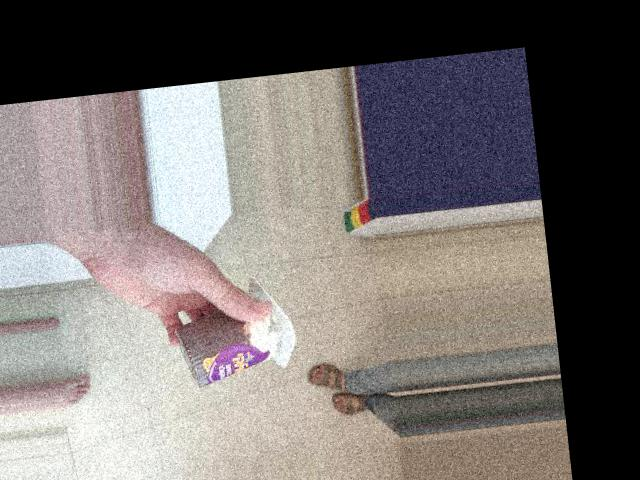milky: (175, 297, 293, 388)
